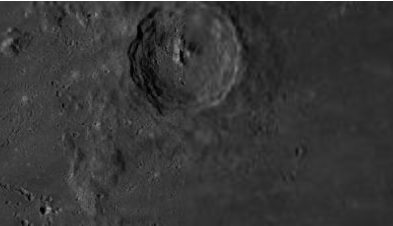crater: (56, 1, 311, 156)
